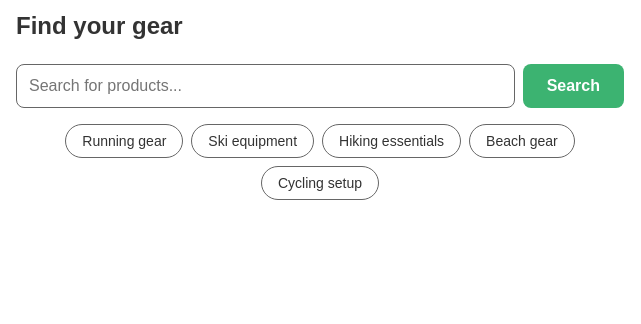
HomePage › shows connection error with Reconnect button
Note: Trigger search to set hasSearched
Step 1. Click the button "Running gear" → (124, 141), box [65, 124, 183, 158]
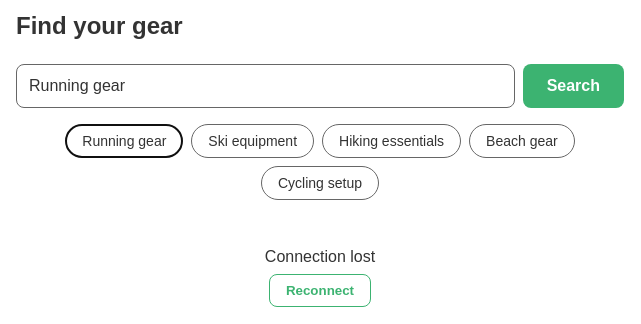
Expected: the text "Connection lost" is shown, [265, 248, 375, 265]
Expected: the button "Reconnect" is shown, [269, 274, 371, 307]
